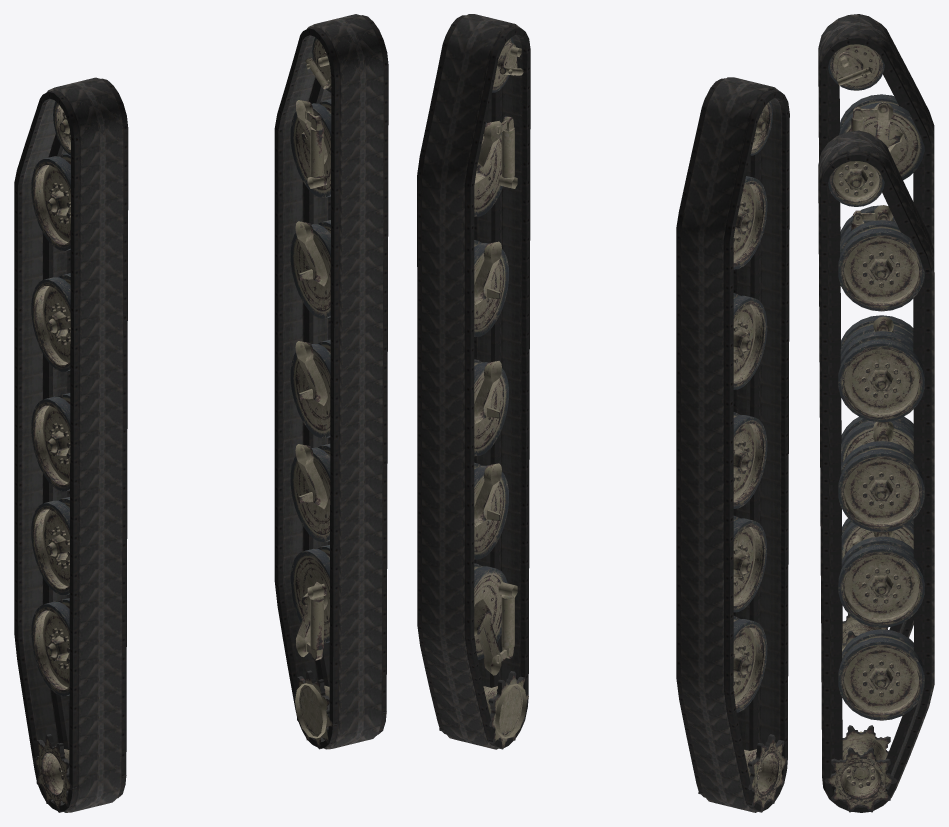
Rendered from Chassis.glb.
3 views of the same model, side by side, from view 1: azimuth 30°, elevation 25°; view 2: azimuth 150°, elevation 25°; view 3: azimuth 270°, elevation 25° (orthographic). The views are drawn at different scales.
Visible parts, largest first — view 1: set_0_group_0, set_1_group_0, set_3_group_0, set_2_group_0; view 2: set_0_group_0, set_1_group_0, set_3_group_0, set_2_group_0; view 3: set_3_group_0, set_1_group_0, set_2_group_0, set_0_group_0.
Boxes of the visible parts, x1,y1,x2,y2 form: set_0_group_0: (14,77,128,812); set_1_group_0: (274,14,388,749); set_3_group_0: (290,37,386,749); set_2_group_0: (31,101,126,812); set_0_group_0: (676,77,789,812); set_1_group_0: (417,14,530,749); set_3_group_0: (439,37,528,749); set_2_group_0: (698,101,787,812); set_3_group_0: (824,161,924,812); set_1_group_0: (818,130,934,812); set_2_group_0: (828,44,924,651); set_0_group_0: (818,14,934,642).
Size of the model in its own units: 3.12 by 6.84 by 1.09.
Materials: 4 (4 with a texture image).
